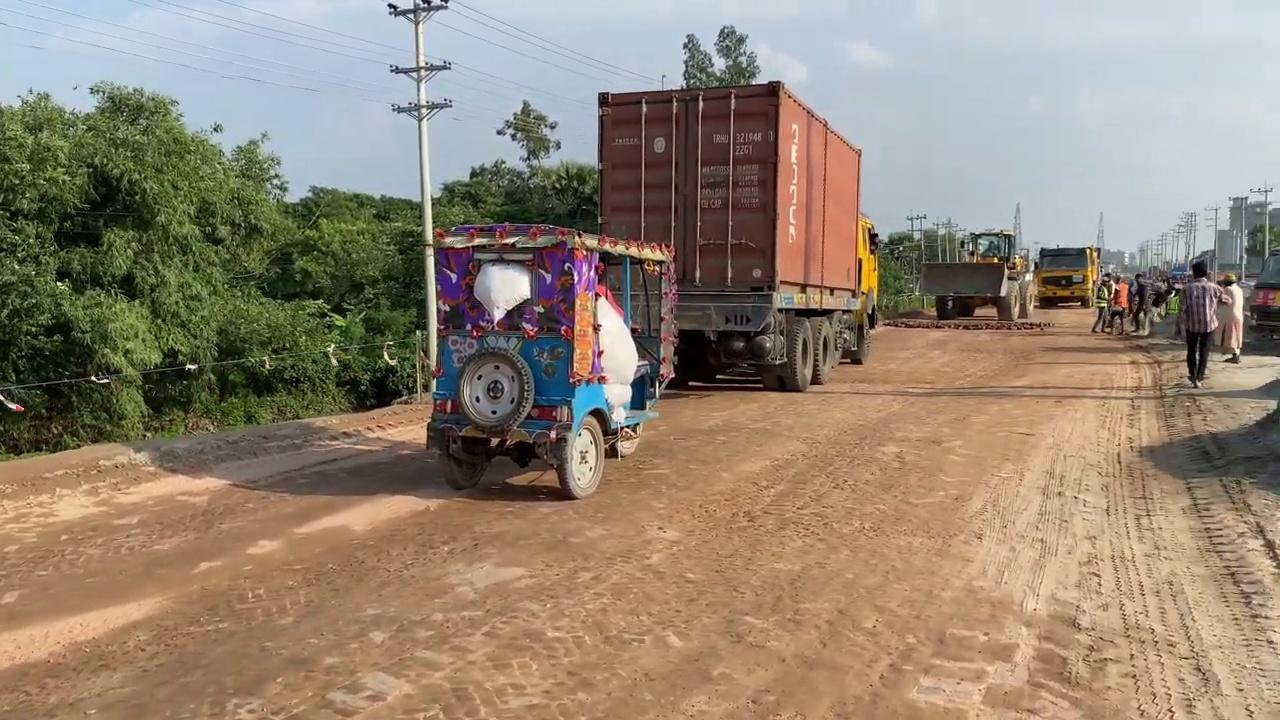Muddy road: (1, 309, 1278, 718)
Pole: (385, 0, 453, 394)
Tree: (595, 79, 878, 391), (424, 220, 679, 499), (926, 209, 1042, 328), (1033, 244, 1100, 308)
